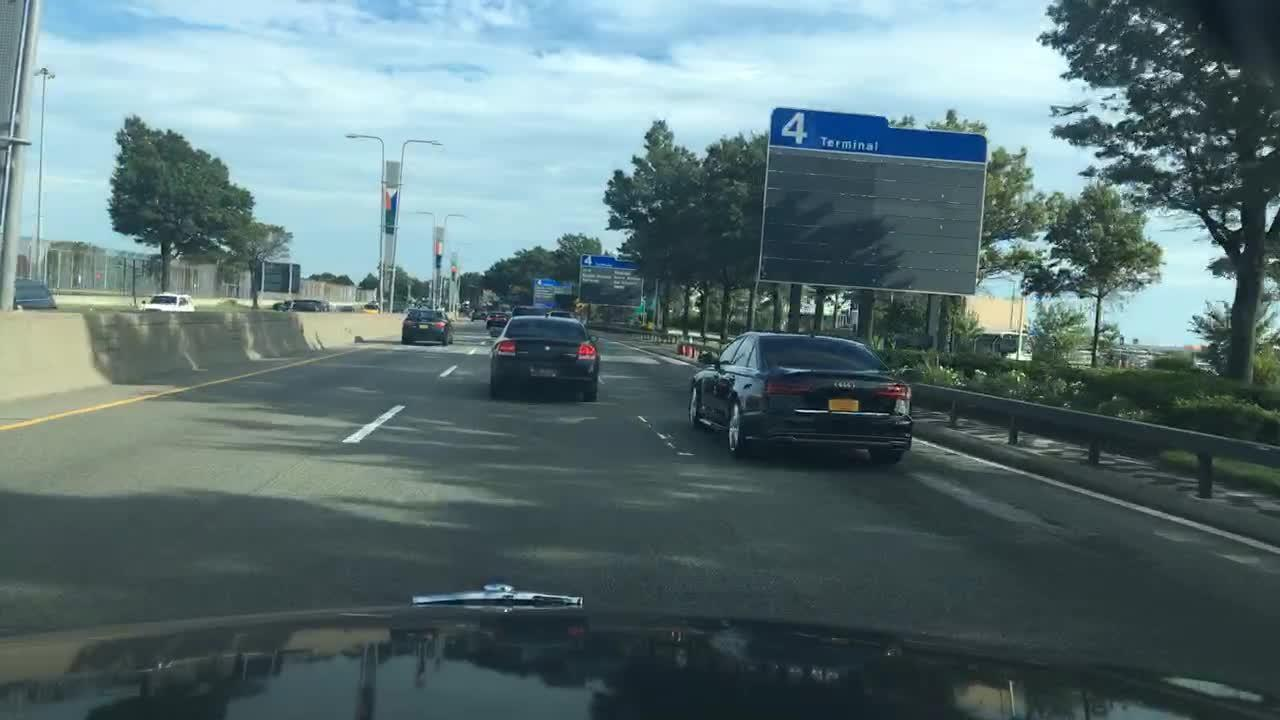Audi: (826, 376, 861, 391)
